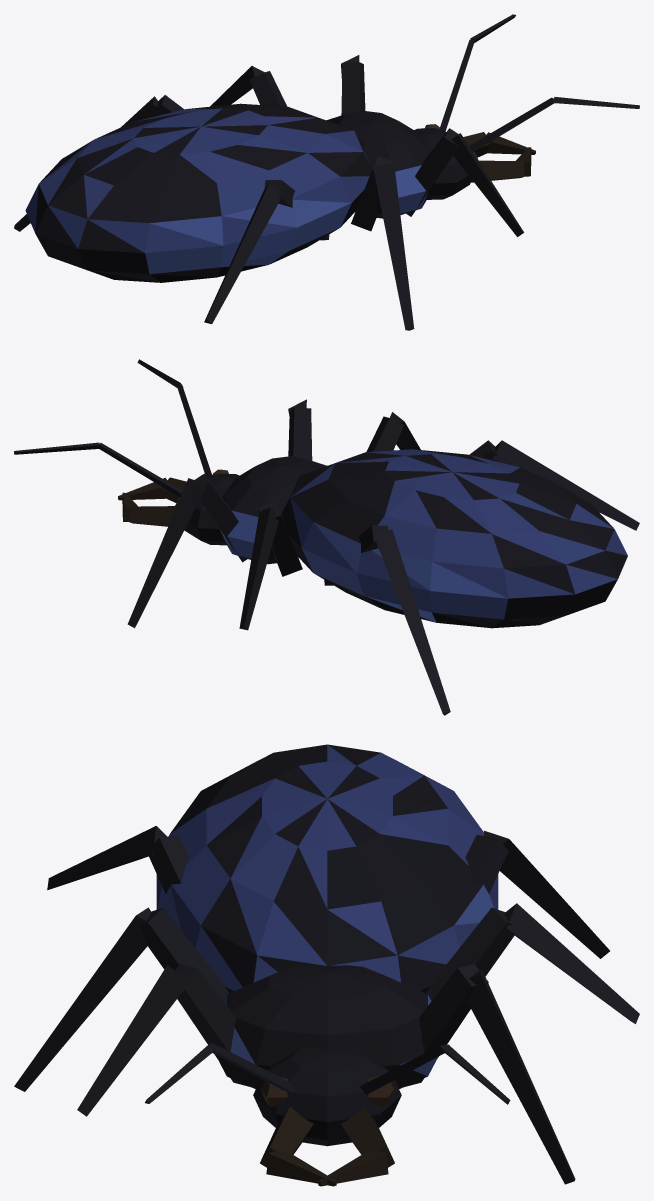
Rendered from bosses-the-ground-beetle-charging.glb.
3 views of the same model, one above another, from view 1: azimuth 30°, elevation 25°; view 2: azimuth 150°, elevation 25°; view 3: azimuth 270°, elevation 25° (orthographic). The views are drawn at different scales.
Bounding box in the file's own units: 17.03 × 4.6 × 11.79.
